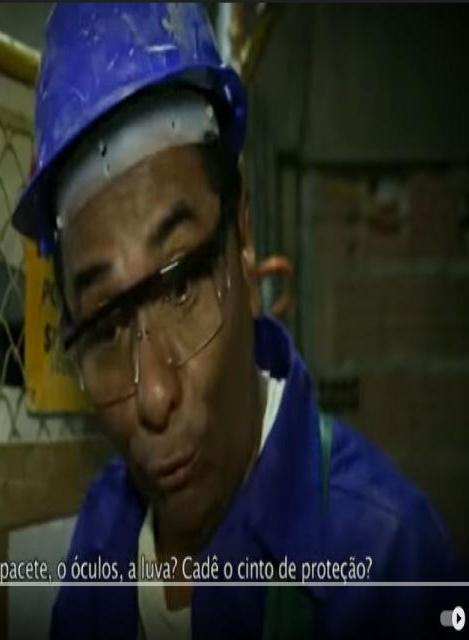hat: (3, 1, 311, 259)
no vest: (38, 311, 469, 640)
